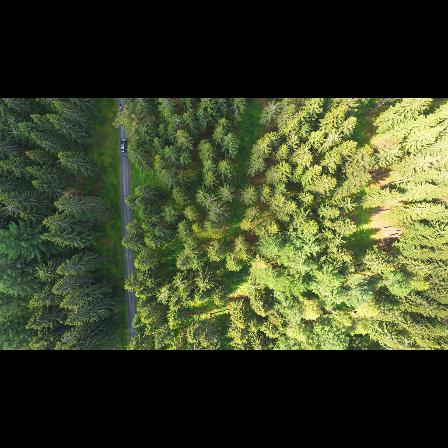Sick: (4, 199, 19, 218), (328, 129, 345, 143), (173, 273, 186, 289), (204, 191, 217, 206), (9, 126, 24, 138), (5, 114, 17, 125)
